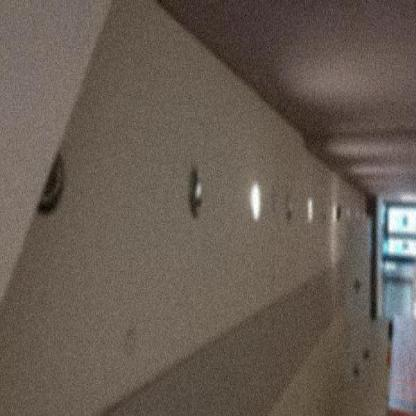light_off: (34, 129, 71, 231), (174, 147, 211, 232), (284, 172, 294, 237), (318, 189, 329, 242), (336, 192, 343, 236)
